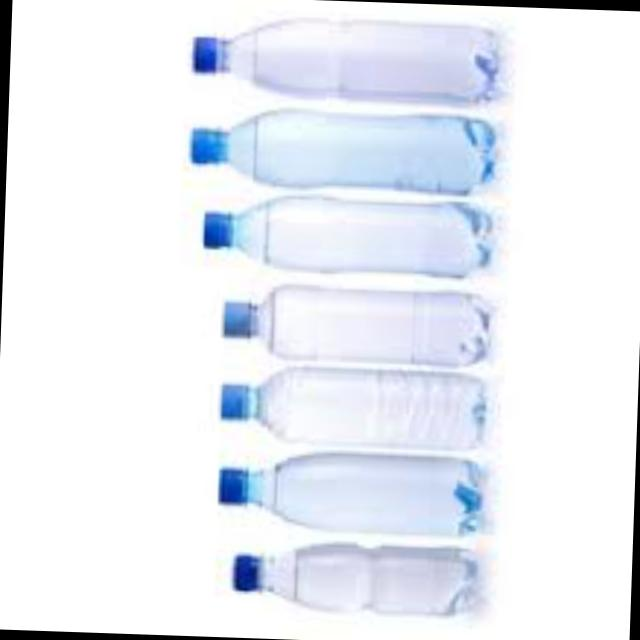plastic: (190, 110, 490, 193), (194, 19, 491, 102), (203, 198, 485, 275), (217, 454, 476, 533), (220, 369, 479, 448), (219, 289, 485, 363), (231, 546, 473, 612)
